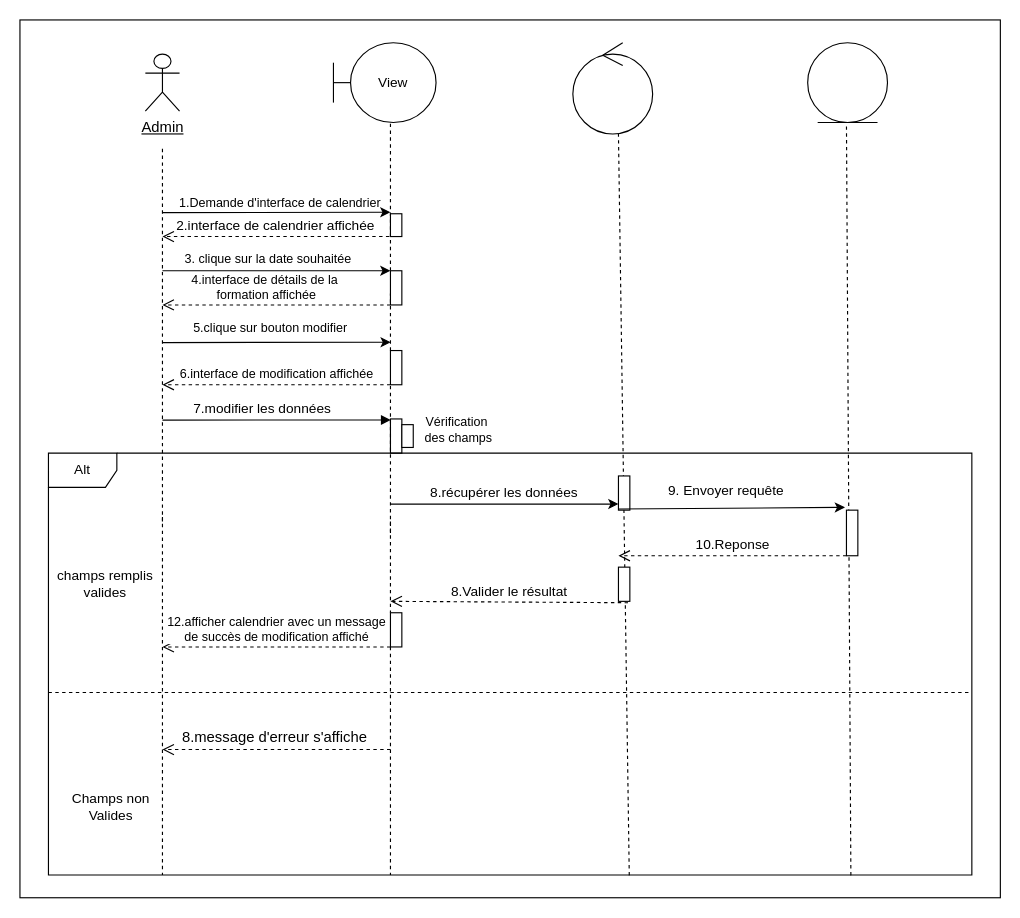
Some shapes in this 1020 by 918 pixel diagram are drawn without their labels. The box of each missing label's shape, as (x1, y1, x2, y2) in pixels:
Controller: (572, 42, 653, 134)
Model: (807, 42, 887, 123)
